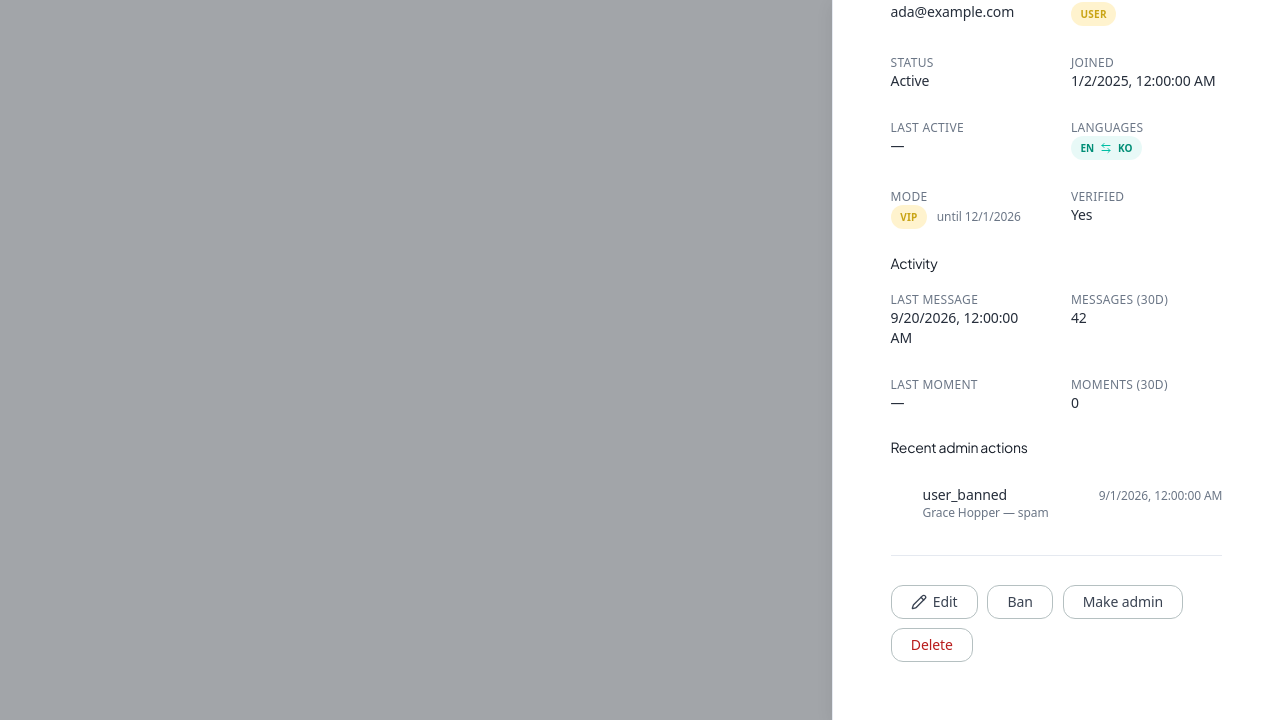
Scenario: opens the edit dialog from Edit, prefilled with this user
(page scrolled)
Click the button with test id "drawer-edit". click: (934, 602)
box: [891, 585, 978, 619]
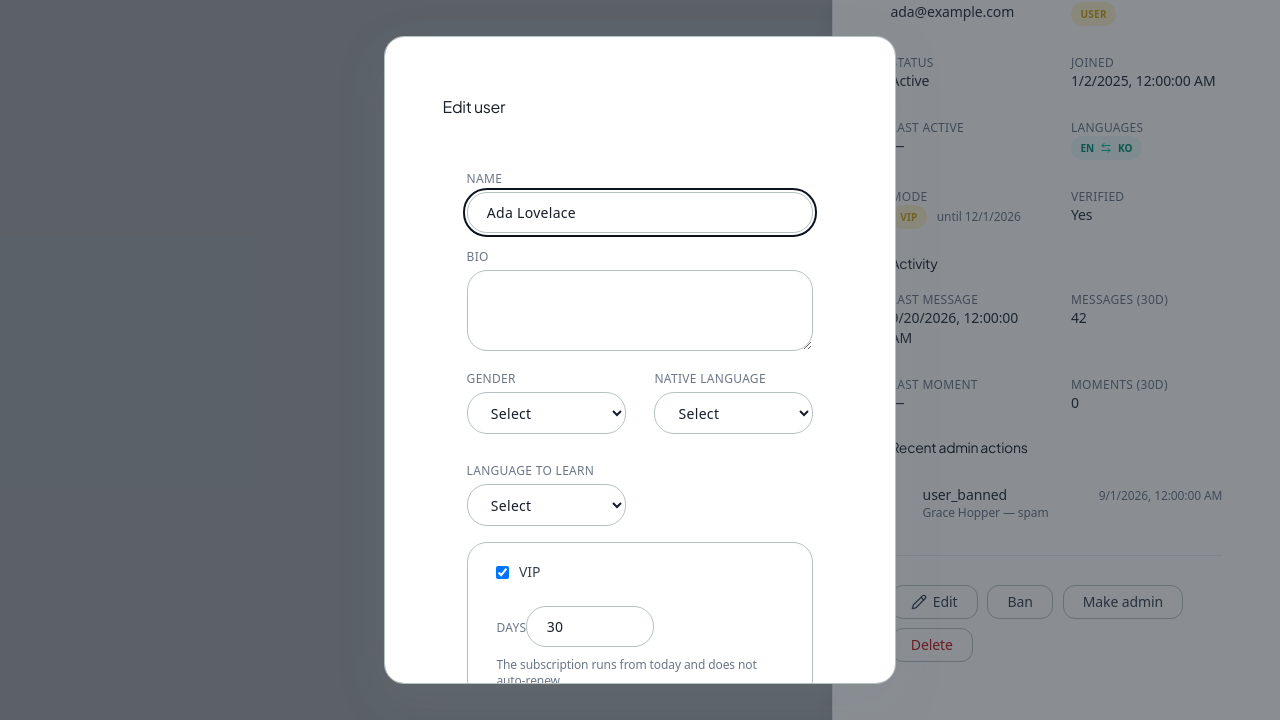
Expected: the dialog with test id "edit-user-dialog" is shown, [384, 36, 896, 684]
Expected: the field with test id "edit-user-name" holds "Ada Lovelace", [467, 192, 813, 233]
